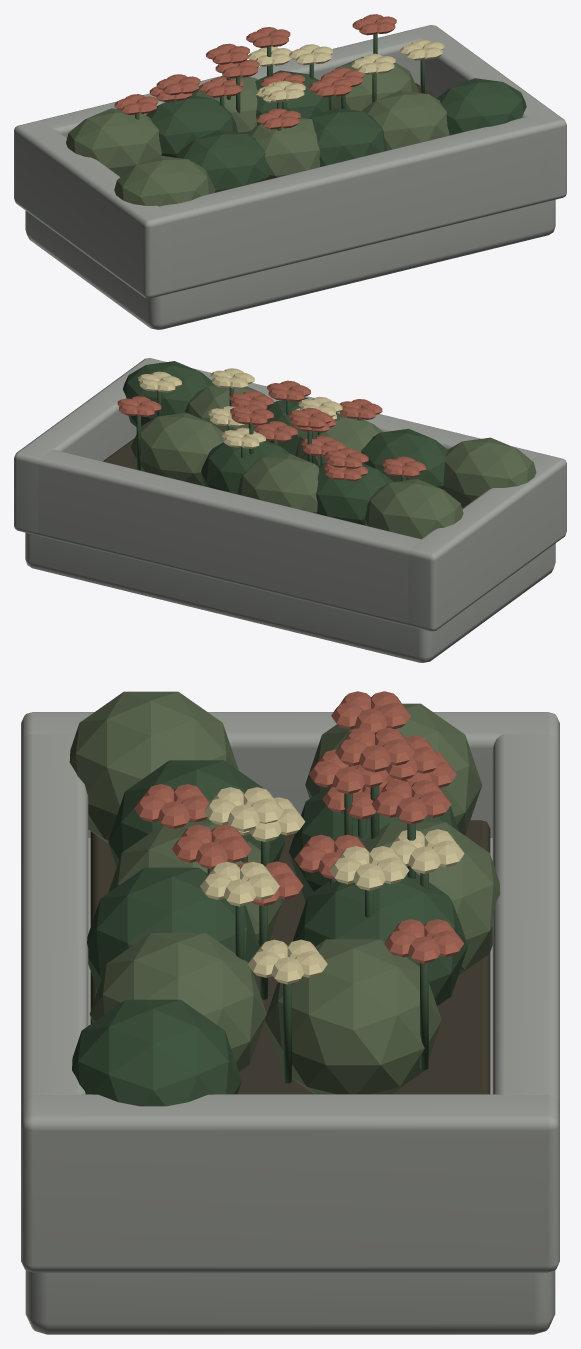
File: flowerbed.glb
3 renders of one model, top to bottom at view 1: azimuth 30°, elevation 25°; view 2: azimuth 150°, elevation 25°; view 3: azimuth 270°, elevation 25°, orthographic. The views are drawn at different scales.
Parts seen in each view (by area): view 1: Planter side wall.002, Planter concrete base, Planter side wall, Planter side wall.001, Planter shrub clump.006, Planter shrub clump, Planter shrub clump.001, Planter side wall.003, Planter shrub clump.005, Planter shrub clump.004, Planter shrub clump.007, Planter shrub clump.003 (+4 smaller); view 2: Planter side wall.003, Planter concrete base, Planter side wall, Planter side wall.001, Planter shrub clump.010, Planter shrub clump, Planter shrub clump.006, Planter shrub clump.008, Planter shrub clump.001, Planter shrub clump.007, Planter shrub clump.005, Planter shrub clump.009 (+5 smaller); view 3: Planter side wall.001, Planter concrete base, Planter side wall.003, Planter side wall.002, Planter shrub clump.010, Planter shrub clump.005, Planter dark soil, Planter side wall, Planter shrub clump, Planter shrub clump.004, Planter shrub clump.003, Planter shrub clump.009 (+7 smaller).
Boxes of the visible parts, bbox=[...] form: Planter side wall.002: bbox=[159, 116, 542, 292]; Planter concrete base: bbox=[25, 199, 555, 329]; Planter side wall: bbox=[14, 120, 172, 298]; Planter side wall.001: bbox=[410, 25, 566, 202]; Planter shrub clump.006: bbox=[66, 108, 161, 176]; Planter shrub clump: bbox=[114, 155, 215, 206]; Planter shrub clump.001: bbox=[175, 130, 269, 192]; Planter side wall.003: bbox=[39, 30, 421, 137]; Planter shrub clump.005: bbox=[437, 78, 526, 135]; Planter shrub clump.004: bbox=[362, 90, 449, 150]; Planter shrub clump.007: bbox=[146, 95, 237, 157]; Planter shrub clump.003: bbox=[309, 107, 386, 166]; Planter side wall.003: bbox=[38, 449, 421, 625]; Planter concrete base: bbox=[25, 532, 555, 662]; Planter side wall: bbox=[408, 453, 566, 631]; Planter side wall.001: bbox=[14, 358, 165, 535]; Planter shrub clump.010: bbox=[130, 412, 223, 486]; Planter shrub clump: bbox=[443, 437, 536, 508]; Planter shrub clump.006: bbox=[365, 479, 463, 538]; Planter shrub clump.008: bbox=[237, 454, 318, 513]; Planter shrub clump.001: bbox=[361, 428, 447, 489]; Planter shrub clump.007: bbox=[316, 463, 393, 525]; Planter shrub clump.005: bbox=[123, 361, 214, 426]; Planter shrub clump.009: bbox=[201, 440, 290, 493]; Planter side wall.001: bbox=[21, 1094, 559, 1272]; Planter concrete base: bbox=[25, 838, 555, 1334]; Planter side wall.003: bbox=[492, 733, 559, 1104]; Planter side wall.002: bbox=[21, 733, 88, 1104]; Planter shrub clump.010: bbox=[265, 939, 441, 1094]; Planter shrub clump.005: bbox=[72, 999, 241, 1106]; Planter dark soil: bbox=[90, 820, 490, 1094]; Planter side wall: bbox=[21, 712, 559, 837]; Planter shrub clump: bbox=[69, 691, 238, 843]; Planter shrub clump.004: bbox=[89, 933, 266, 1071]; Planter shrub clump.003: bbox=[87, 867, 259, 990]; Planter shrub clump.009: bbox=[292, 866, 467, 1005].
Bounding box in the file's own units: 2.03 × 0.8357 × 1.12.
